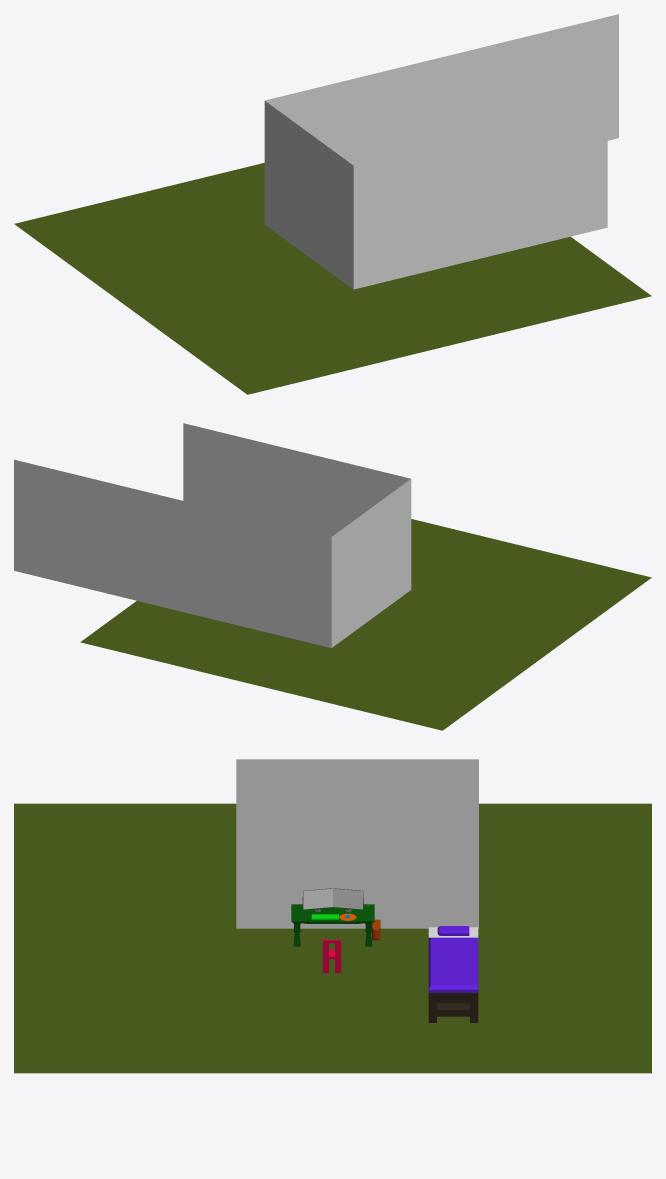
File: assets.fbx
The picture shows the model from 3 angles, top to bottom: view 1: azimuth 30°, elevation 25°; view 2: azimuth 150°, elevation 25°; view 3: azimuth 270°, elevation 25°; orthographic projection. The views are drawn at different scales.
Visible parts, largest first — view 1: wall, floor; view 2: wall, floor; view 3: floor, wall, bed, desk, MONITOR 2, MONITOR 1.
Boxes of the visible parts, left/top/right/bottom form: wall: left=264, top=14, right=618, bottom=289; floor: left=14, top=163, right=651, bottom=394; wall: left=14, top=423, right=411, bottom=648; floor: left=80, top=519, right=651, bottom=730; floor: left=14, top=803, right=651, bottom=1073; wall: left=236, top=759, right=478, bottom=928; bed: left=428, top=926, right=478, bottom=1022; desk: left=291, top=904, right=374, bottom=946; MONITOR 2: left=333, top=888, right=363, bottom=912; MONITOR 1: left=302, top=888, right=332, bottom=912.
Size of the model in its own units: 1662 by 364 by 1242.
